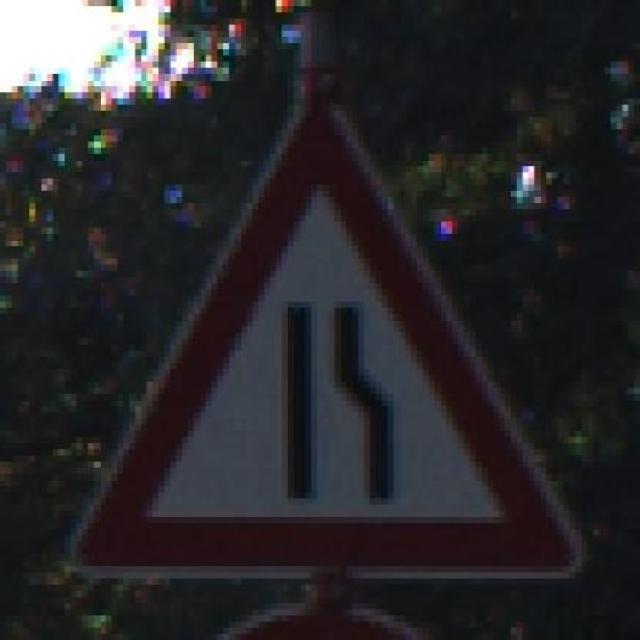-Road narrows on right: (64, 92, 599, 597)
